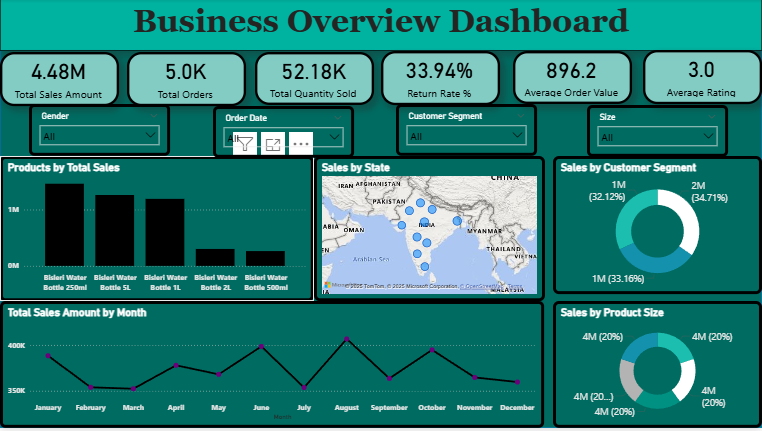

What the dashboard file says about the page in this screenshot:
{"tool":"powerbi","page":{"name":"Page 2","canvas":[1280,720],"ordinal":1},"visuals":[{"type":"shape","box":[0,0,1279.6,720.4],"z":0},{"type":"textbox","box":[0,0,1279.6,87],"z":1000},{"type":"card","fields":{"Values":["bisleri_dataset.Total Sales Amount"]},"box":[0,88.9,200,90.7],"z":2000},{"type":"card","fields":{"Values":["bisleri_dataset.Total Orders"]},"box":[213,88.9,200,90.7],"z":3000},{"type":"card","fields":{"Values":["bisleri_dataset.Total Quantity Sold"]},"box":[427.8,88.9,200,88.9],"z":4000},{"type":"card","fields":{"Values":["bisleri_dataset.Return Rate %"]},"box":[640.7,87,200,90.7],"z":5000},{"type":"card","fields":{"Values":["bisleri_dataset.Average Order Value"]},"box":[861.1,87,200,88.9],"z":6000},{"type":"card","fields":{"Values":["bisleri_dataset.Average Rating"]},"box":[1079.6,85.2,200,90.7],"z":7000},{"type":"lineChart","title":"Total Sales Amount by Month","fields":{"Y":["Sum(bisleri_dataset.Total Amount)"],"Category":["bisleri_dataset.Order Date.Variation.Date Hierarchy.Month"]},"box":[0,507.3,913.8,213.3],"z":8000},{"type":"donutChart","title":"Sales by Product Size","fields":{"Category":["bisleri_dataset.Size"],"Y":["bisleri_dataset.Sales by Segment"]},"box":[928.9,507.3,351.1,213.3],"z":9000},{"type":"columnChart","title":"Products by Total Sales","fields":{"Y":["bisleri_dataset.Total Sales Amount"],"Category":["bisleri_dataset.Product Name"]},"box":[0,263.7,527.5,243.6],"z":10000},{"type":"donutChart","title":"Sales by Customer Segment","fields":{"Category":["bisleri_dataset.Customer Segment"],"Y":["bisleri_dataset.Sales by Segment"]},"box":[928.9,263.7,351.1,231.8],"z":11000},{"type":"map","title":"Sales by State","fields":{"Size":["bisleri_dataset.Total Sales Amount"],"Category":["bisleri_dataset.State"]},"box":[527.5,263.7,388,243.6],"z":12000},{"type":"slicer","title":"Products by Total Sales","fields":{"Values":["bisleri_dataset.Gender"]},"box":[48.7,176.4,236.9,87.3],"z":13000},{"type":"slicer","title":"Products by Total Sales","fields":{"Values":["bisleri_dataset.Order Date"]},"box":[357.8,179.7,236.9,87.3],"z":14000},{"type":"slicer","title":"Products by Total Sales","fields":{"Values":["bisleri_dataset.Customer Segment"]},"box":[665.2,176.4,236.9,87.3],"z":15000},{"type":"slicer","title":"Products by Total Sales","fields":{"Values":["bisleri_dataset.Size"]},"box":[986,178.1,236.9,87.3],"z":16000}]}

Visuals, with their boxes in screenshot pixels (x1, y1, x2, y2), scaled from the page's 1280x720 canvas onto the 762x431 screenshot:
shape: rect(0, 0, 761, 430)
textbox: rect(0, 0, 761, 52)
card - bisleri_dataset.Total Sales Amount: rect(0, 53, 119, 108)
card - bisleri_dataset.Total Orders: rect(127, 53, 246, 108)
card - bisleri_dataset.Total Quantity Sold: rect(255, 53, 374, 106)
card - bisleri_dataset.Return Rate %: rect(381, 52, 500, 106)
card - bisleri_dataset.Average Order Value: rect(513, 52, 632, 105)
card - bisleri_dataset.Average Rating: rect(643, 51, 761, 105)
"Total Sales Amount by Month" lineChart: rect(0, 304, 544, 430)
"Sales by Product Size" donutChart: rect(553, 304, 761, 430)
"Products by Total Sales" columnChart: rect(0, 158, 314, 304)
"Sales by Customer Segment" donutChart: rect(553, 158, 761, 297)
"Sales by State" map: rect(314, 158, 545, 304)
"Products by Total Sales" slicer: rect(29, 106, 170, 158)
"Products by Total Sales" slicer: rect(213, 108, 354, 160)
"Products by Total Sales" slicer: rect(396, 106, 537, 158)
"Products by Total Sales" slicer: rect(587, 107, 728, 159)
